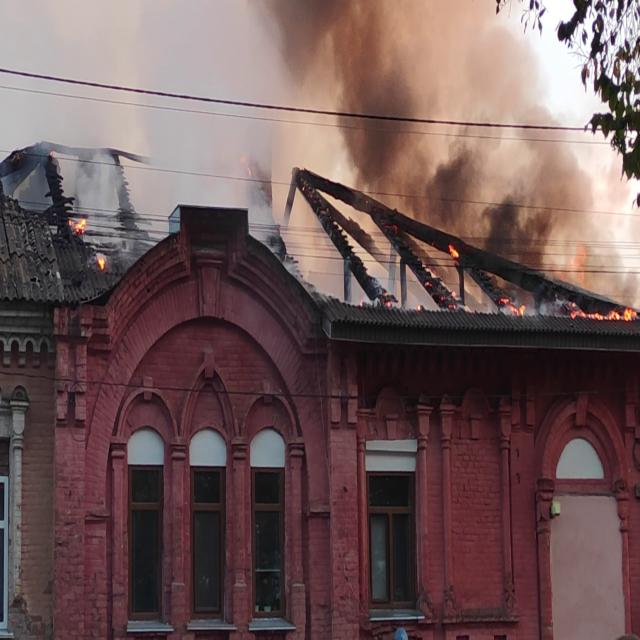fire: (559, 234, 637, 327)
smoke: (342, 0, 496, 219)
